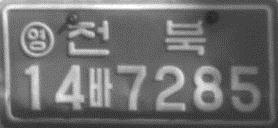1: (19, 63, 49, 111)
2: (154, 64, 186, 112)
4: (54, 63, 84, 110)
5: (228, 64, 261, 113)
7: (116, 63, 146, 111)
8: (191, 65, 223, 111)
바: (87, 66, 113, 109)
영: (19, 20, 54, 58)
전북_D: (65, 19, 207, 56)
